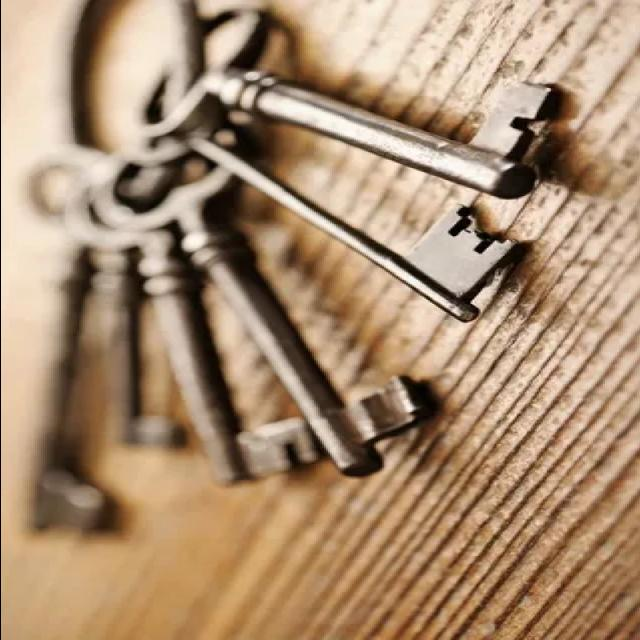key: (114, 18, 570, 204)
